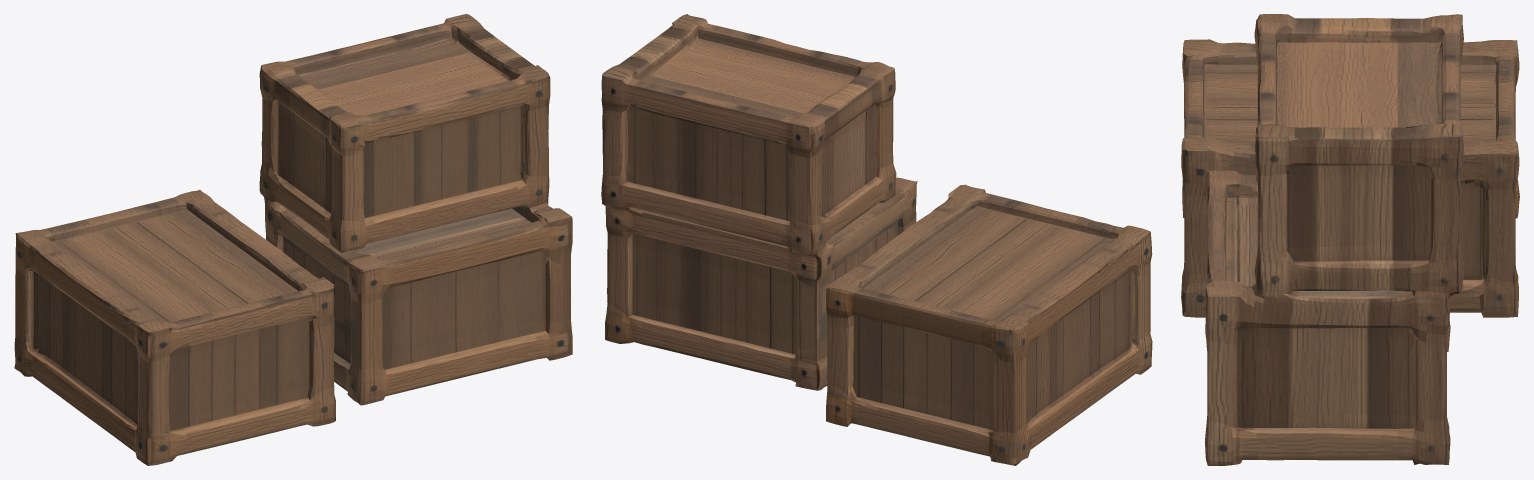
Rendered from Meshy_AI_a_pile_of_three_woode_0519051338_texture.obj.
The picture shows the model from 3 angles, left to right: view 1: azimuth 30°, elevation 25°; view 2: azimuth 150°, elevation 25°; view 3: azimuth 270°, elevation 25°; orthographic projection. The views are drawn at different scales.
Visible parts, largest first — view 1: Meshy_AI_a_pile_of_three_woode_0519051338_texture; view 2: Meshy_AI_a_pile_of_three_woode_0519051338_texture; view 3: Meshy_AI_a_pile_of_three_woode_0519051338_texture.
Part boxes in pixels (box(x1,y1,x2,y2)): Meshy_AI_a_pile_of_three_woode_0519051338_texture: box(14, 14, 572, 465); Meshy_AI_a_pile_of_three_woode_0519051338_texture: box(601, 14, 1152, 465); Meshy_AI_a_pile_of_three_woode_0519051338_texture: box(1181, 14, 1519, 465).
Size of the model in its own units: 1.9 by 1.11 by 1.04.
Materials: 1 (1 with a texture image).
